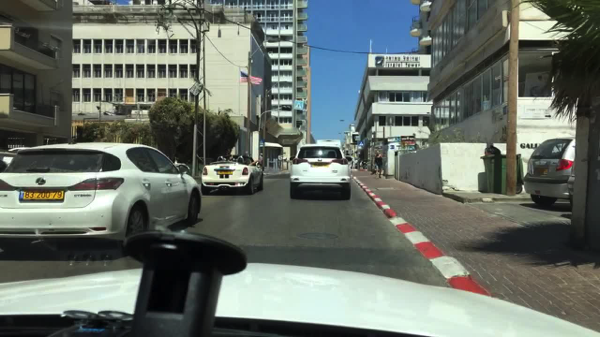car: (0, 141, 201, 254), (288, 140, 352, 200), (524, 138, 575, 207), (199, 155, 264, 196), (0, 150, 18, 174)
person: (374, 150, 383, 179)
